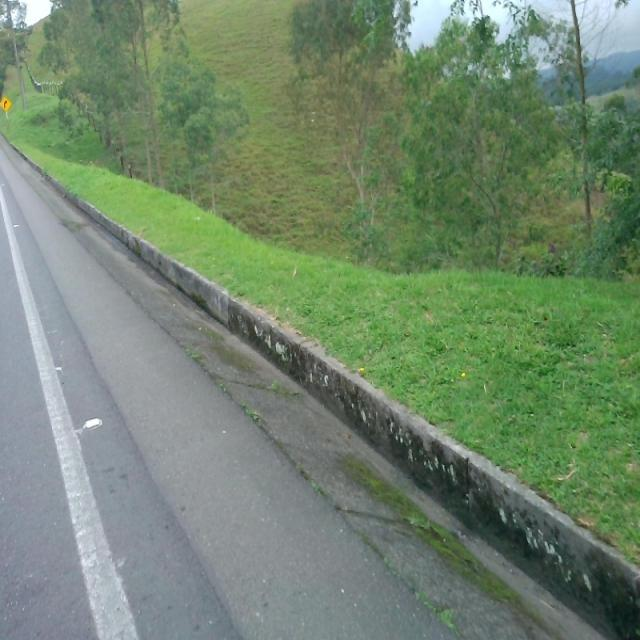DITCH: (1, 130, 638, 638)
